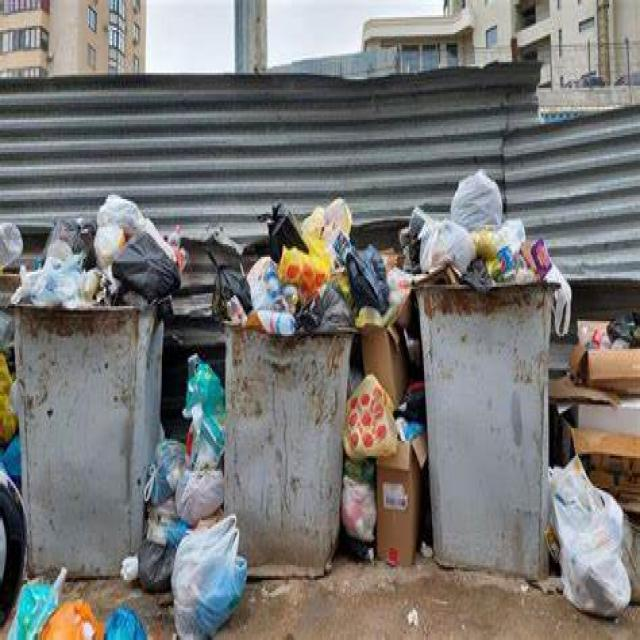bin: (412, 280, 561, 581), (14, 303, 165, 580), (223, 318, 357, 577)
plastic: (205, 174, 573, 566), (0, 192, 195, 624), (119, 352, 248, 640), (545, 308, 640, 618), (5, 567, 147, 640)
